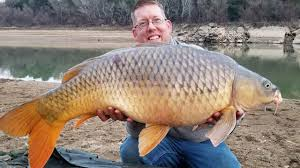carp: (1, 43, 282, 168)
